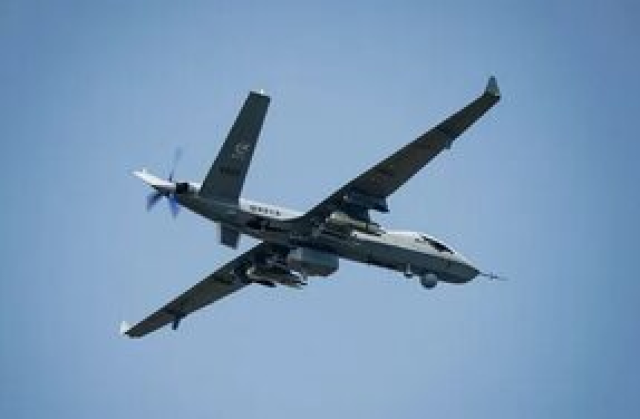military drone: (119, 76, 509, 338)
